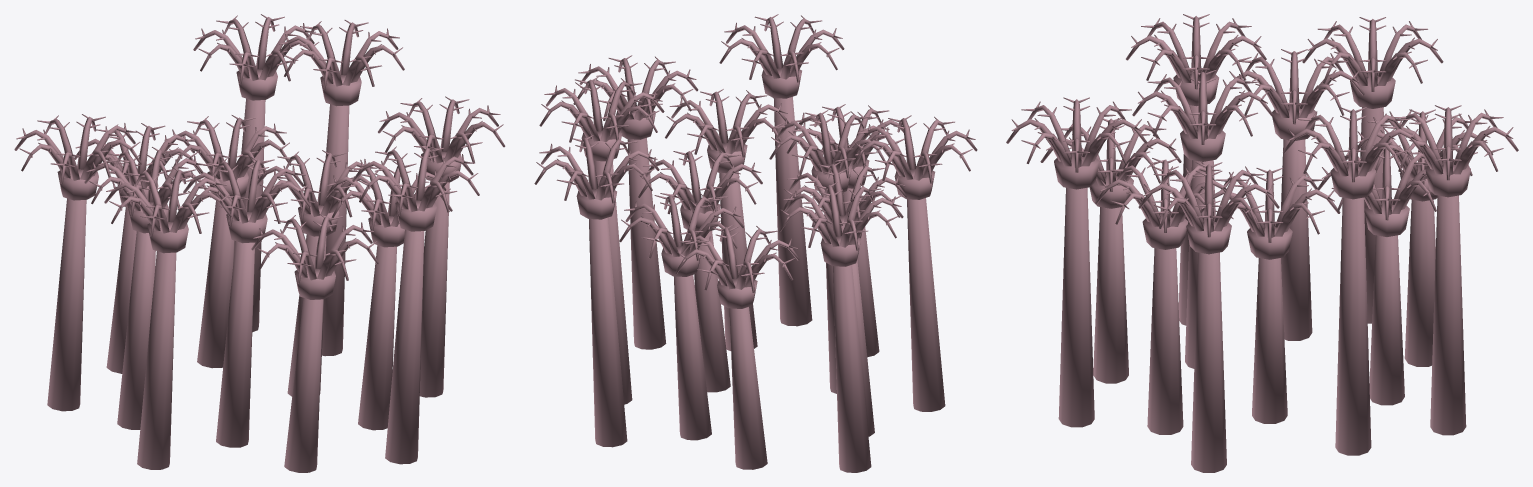
Rendered from xenia-mobile.glb.
3 renders of one model, left to right at view 1: azimuth 30°, elevation 25°; view 2: azimuth 150°, elevation 25°; view 3: azimuth 270°, elevation 25°, orthographic. The views are drawn at different scales.
Parts seen in each view (by area): view 1: xenia-stalk, octocoral-tentacle, polyp-column, pinnule; view 2: xenia-stalk, octocoral-tentacle, polyp-column, pinnule; view 3: xenia-stalk, octocoral-tentacle, polyp-column, pinnule.
Boxes of the visible parts, left/top/right/bottom form: xenia-stalk: left=47, top=75, right=449, bottom=472; octocoral-tentacle: left=14, top=17, right=505, bottom=283; polyp-column: left=57, top=66, right=461, bottom=299; pinnule: left=16, top=14, right=503, bottom=266; xenia-stalk: left=589, top=74, right=945, bottom=472; octocoral-tentacle: left=534, top=17, right=977, bottom=292; polyp-column: left=576, top=68, right=935, bottom=308; pinnule: left=536, top=14, right=975, bottom=276; xenia-stalk: left=1058, top=74, right=1466, bottom=472; octocoral-tentacle: left=1006, top=16, right=1518, bottom=242; polyp-column: left=1054, top=70, right=1470, bottom=259; pinnule: left=1011, top=14, right=1513, bottom=223.
Bounding box in the file's own units: 0.5495 × 0.4019 × 0.5699.
